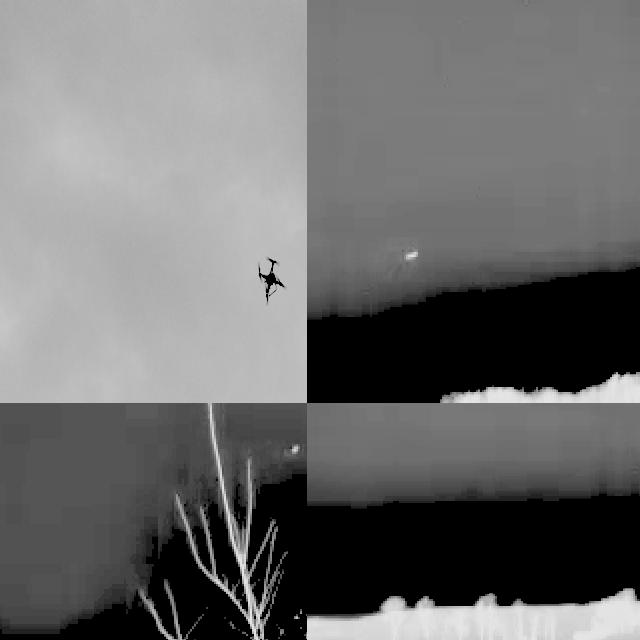0: (281, 438, 307, 468)
1: (394, 242, 430, 277)
drone: (254, 254, 285, 303)
